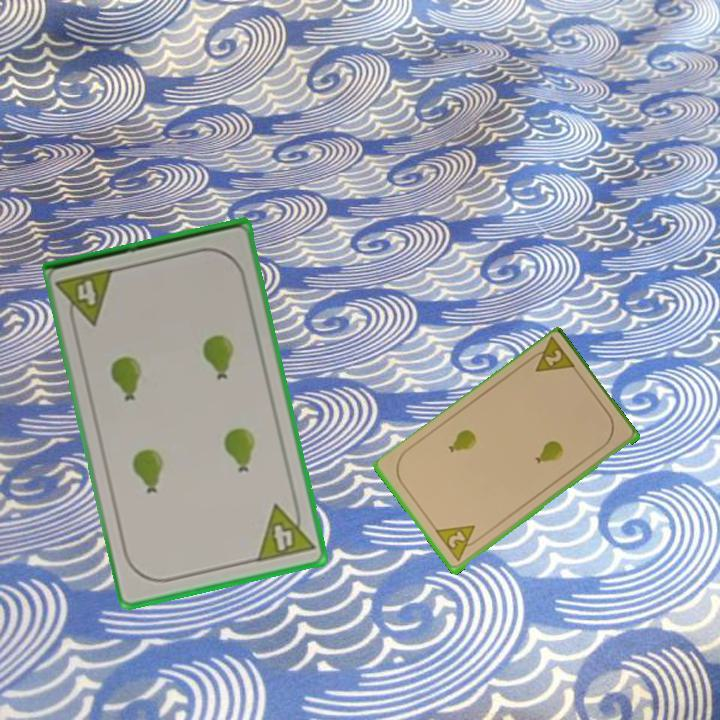2p: (523, 335, 579, 376), (432, 521, 484, 565)
4p: (253, 496, 318, 565), (54, 265, 119, 332)
